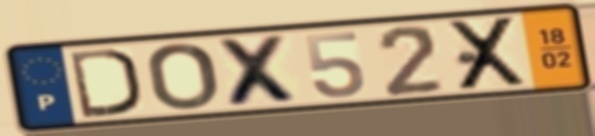2: (374, 22, 449, 99)
5: (300, 29, 368, 99)
D: (65, 46, 143, 120)
O: (143, 40, 222, 112)
X: (212, 32, 307, 109), (446, 13, 532, 94)
